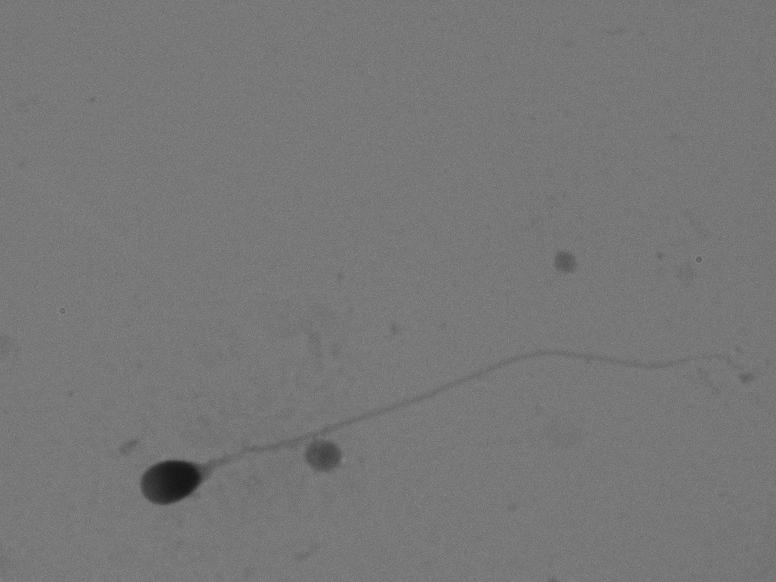Normal: (131, 305, 745, 513)
